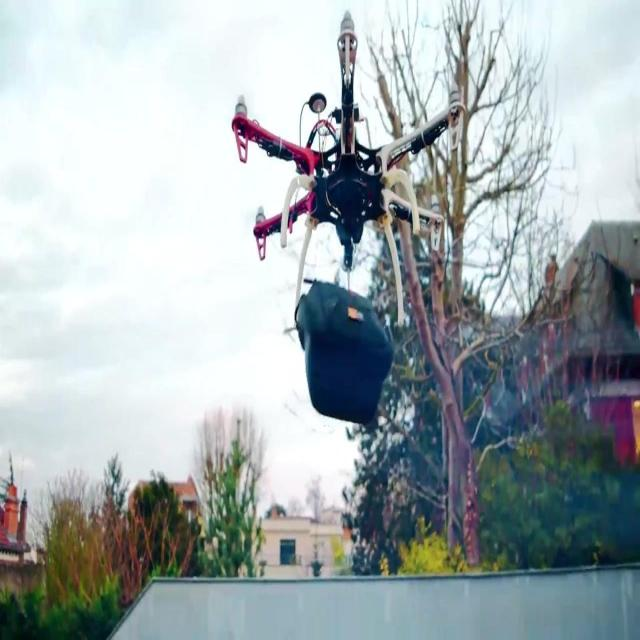drone: (230, 7, 466, 271)
